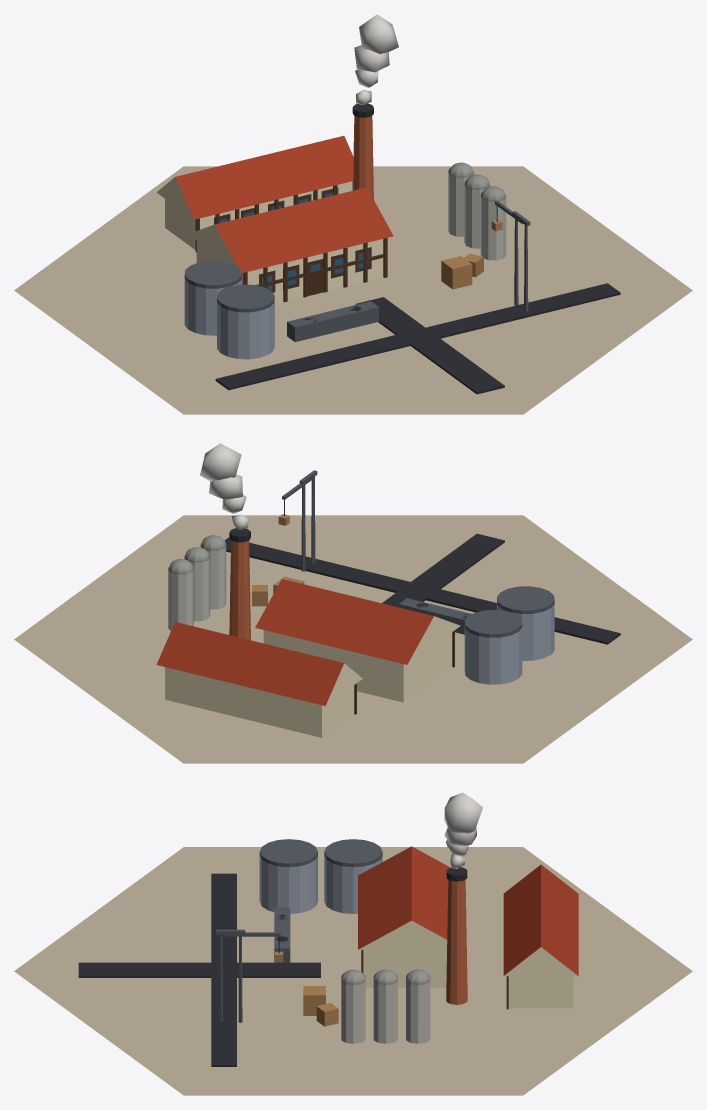
File: district_hansa_1.fbx
3 views of the same model, one above another, from view 1: azimuth 30°, elevation 25°; view 2: azimuth 150°, elevation 25°; view 3: azimuth 270°, elevation 25° (orthographic).
Parts seen in each view (by area): view 1: district_hansa_1; view 2: district_hansa_1; view 3: district_hansa_1.
Part boxes in pixels (x1,y1,x2,y2): district_hansa_1: (14,14,692,414); district_hansa_1: (14,443,692,763); district_hansa_1: (14,792,692,1095).
Size of the model in its own units: 182 by 74.16 by 210.
